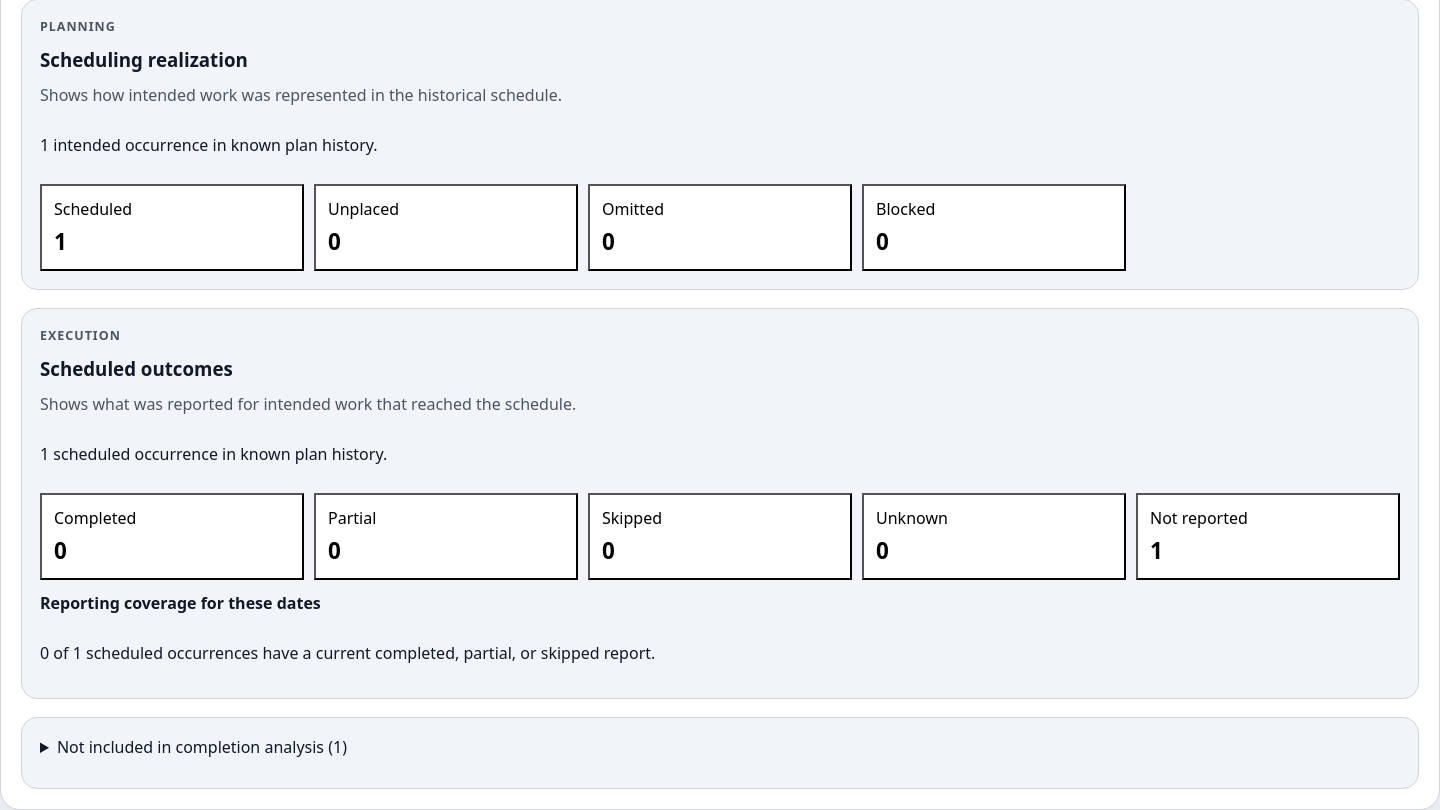
Test: HistoricalIntelligenceSummary › shows all five categorical counts and drill-down provenance without a score
This screenshot has width=1440, height=810.
(page scrolled)
Click the button with aria-label "Not reported: 1" at (1199, 518), box top-left (1136, 493), bottom-right (1400, 580)
(page scrolled)
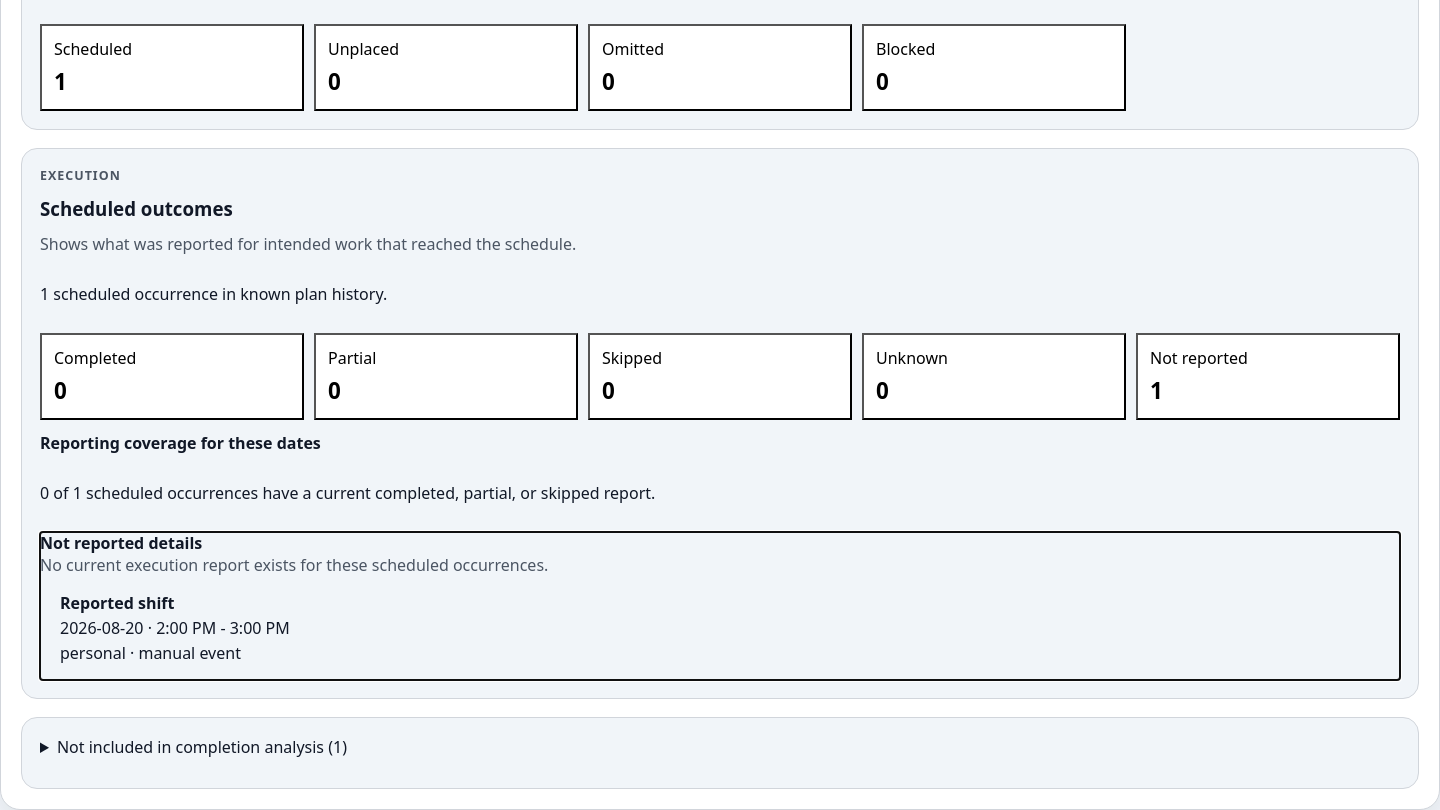
Expected: the text "Reported shift" is shown, top-left (60, 592), bottom-right (174, 614)
Expected: the text "No current execution report exists" is shown, top-left (40, 554), bottom-right (548, 576)
Click the heading "Not included in completion analysis (1)" at (202, 747), box top-left (57, 736), bottom-right (347, 758)
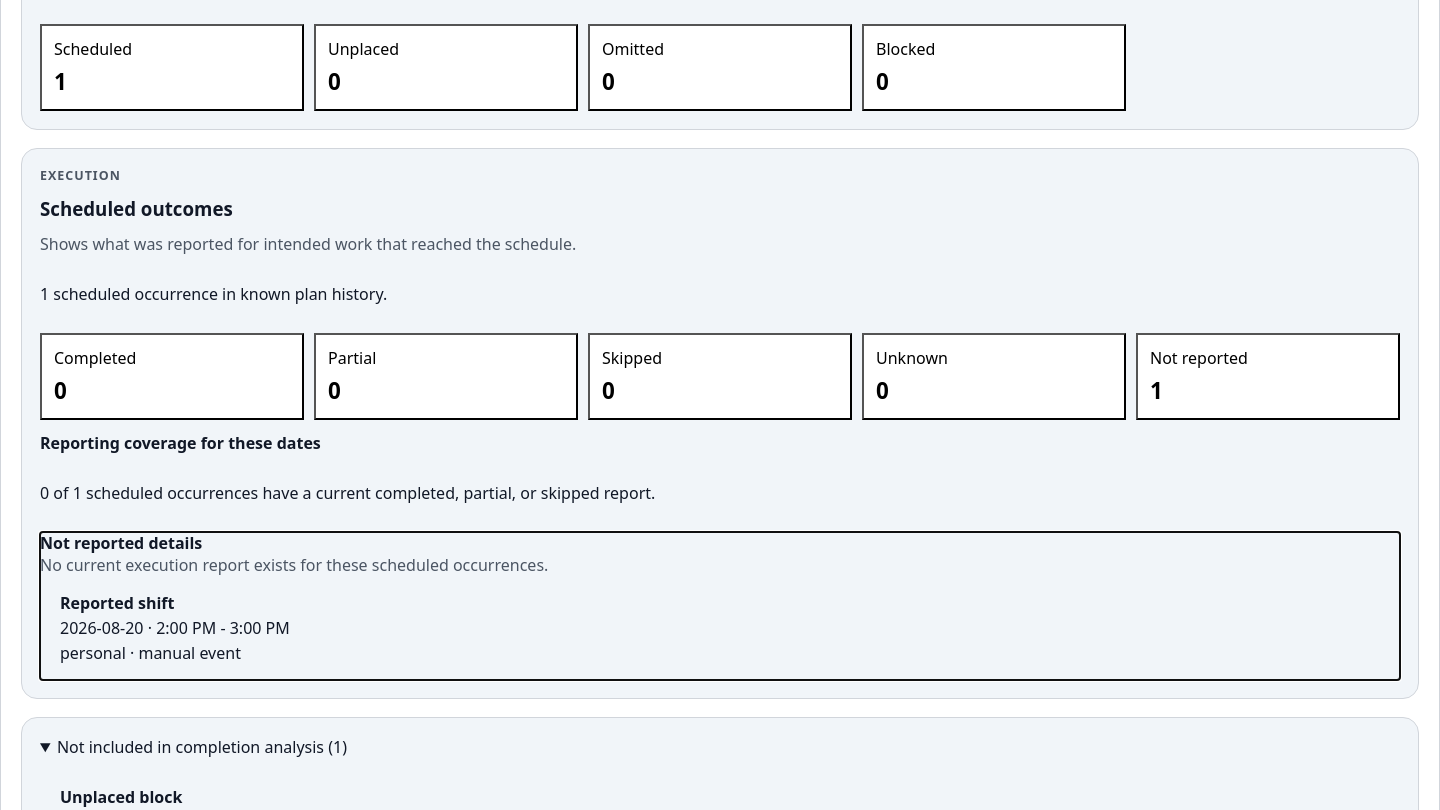
Expected: the text "Unplaced block" is shown, top-left (60, 786), bottom-right (182, 808)
